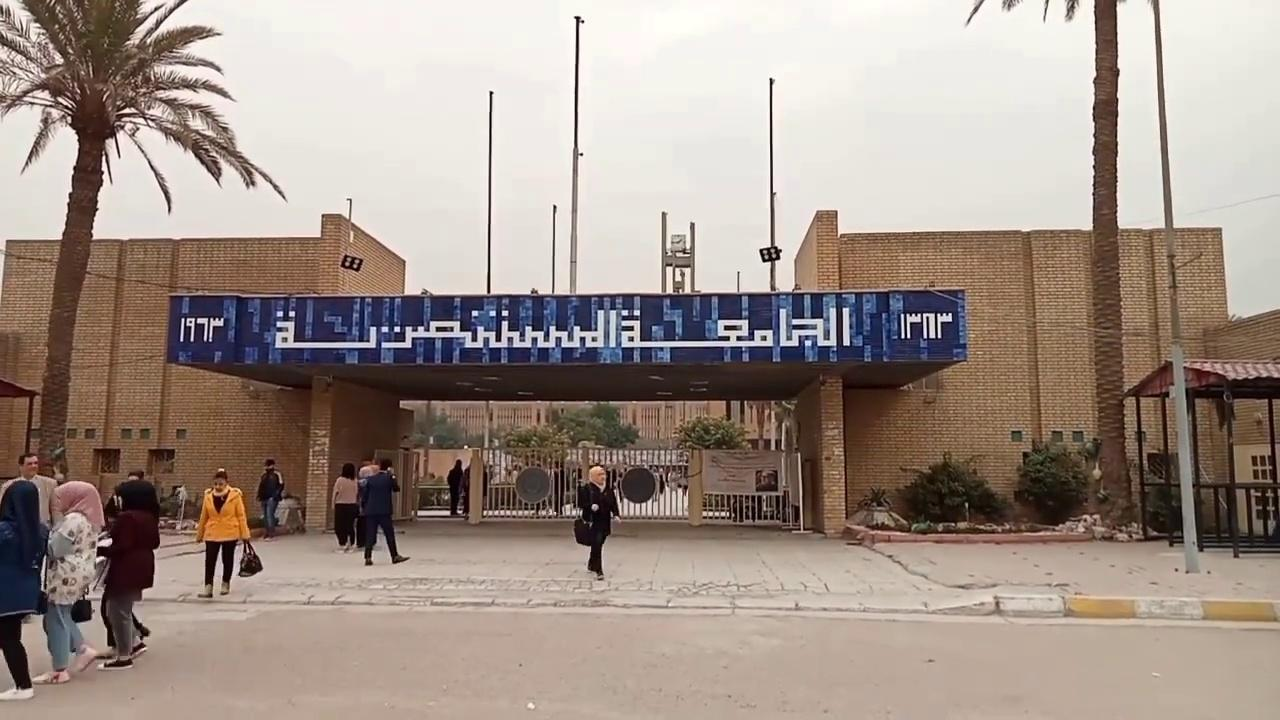person: (31, 479, 105, 684), (96, 479, 160, 669), (0, 476, 48, 701), (194, 468, 251, 597), (360, 457, 410, 565), (577, 465, 622, 580), (331, 462, 359, 552), (256, 458, 284, 541), (355, 456, 376, 549), (446, 458, 463, 516)
tree: (0, 0, 286, 480), (964, 0, 1140, 528), (671, 413, 751, 525), (896, 449, 1001, 524), (1013, 440, 1091, 525), (501, 422, 571, 514), (671, 413, 751, 450)
